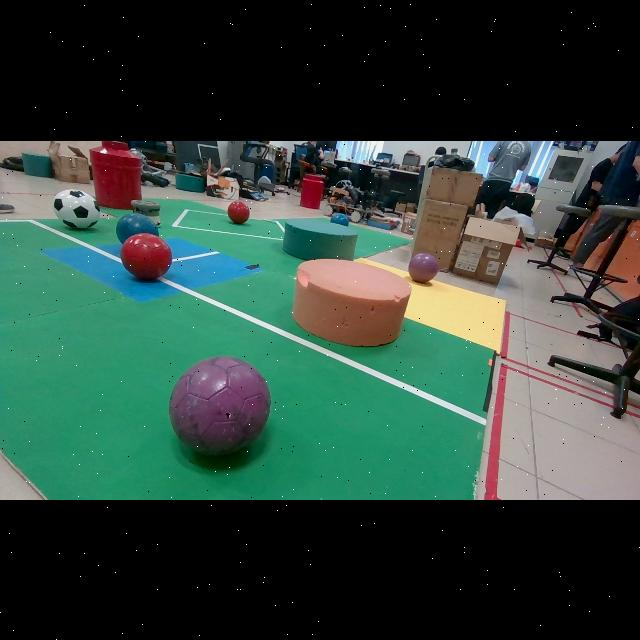B: (116, 213, 158, 242)
P: (169, 356, 271, 455), (409, 253, 438, 281)
R: (121, 232, 172, 279), (228, 201, 249, 223)
